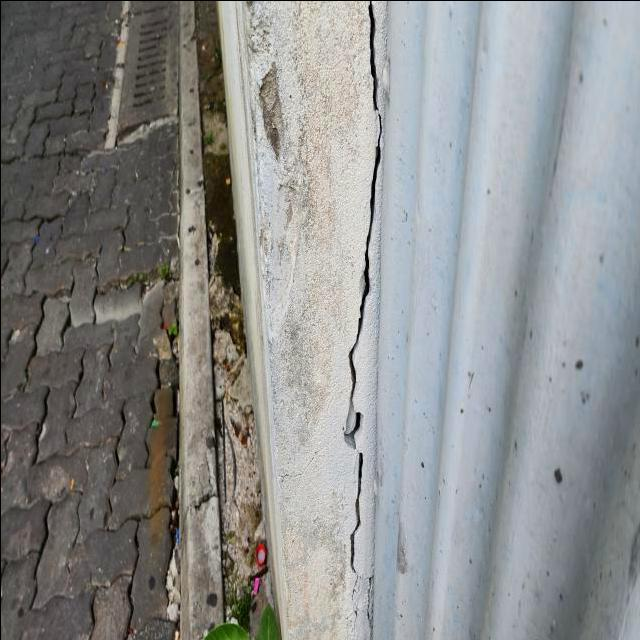SurfaceCrack: (309, 1, 419, 640)
